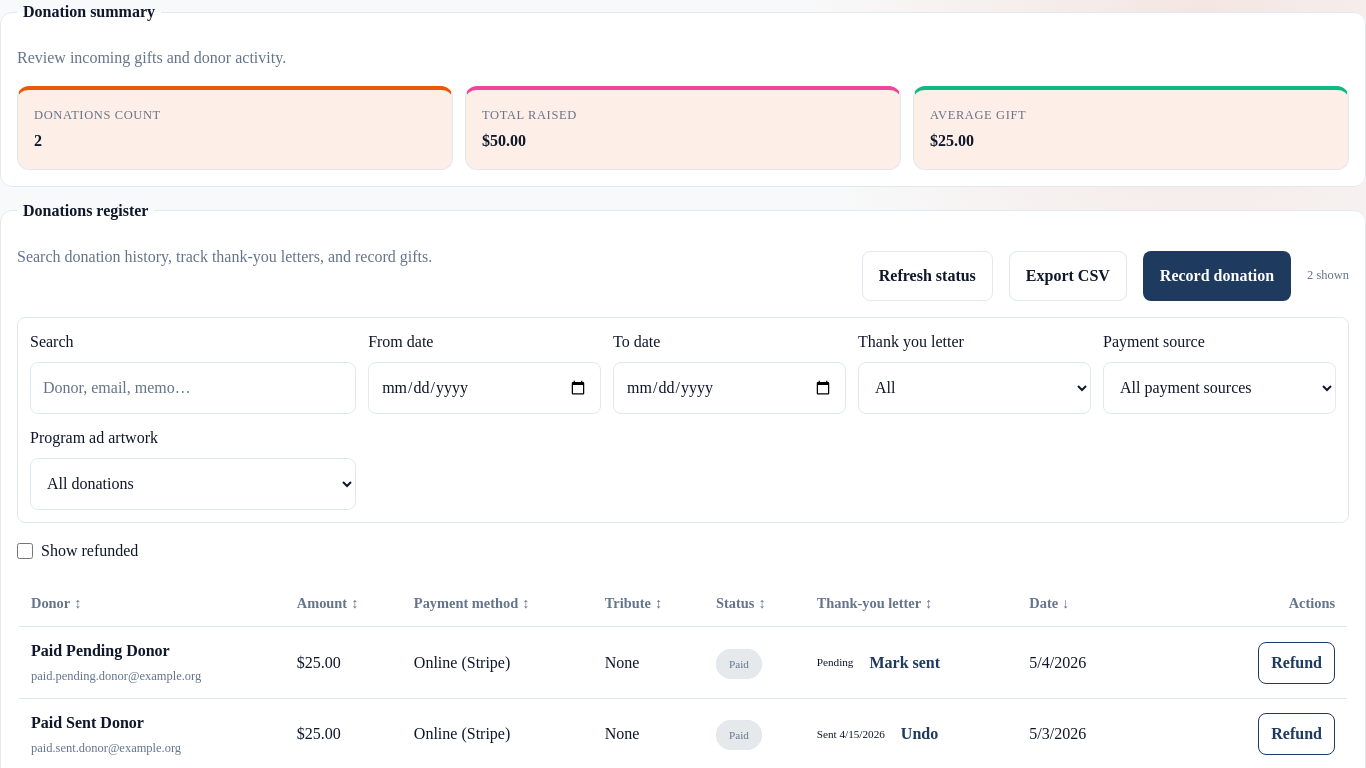
DonationHistoryTab DataTable › keeps refunded thank-you state non-actionable across filters and mobile cards
Click the checkbox labelled "Show refunded" at {"x": 25, "y": 551}, box x1=17 y1=543 x2=33 y2=559
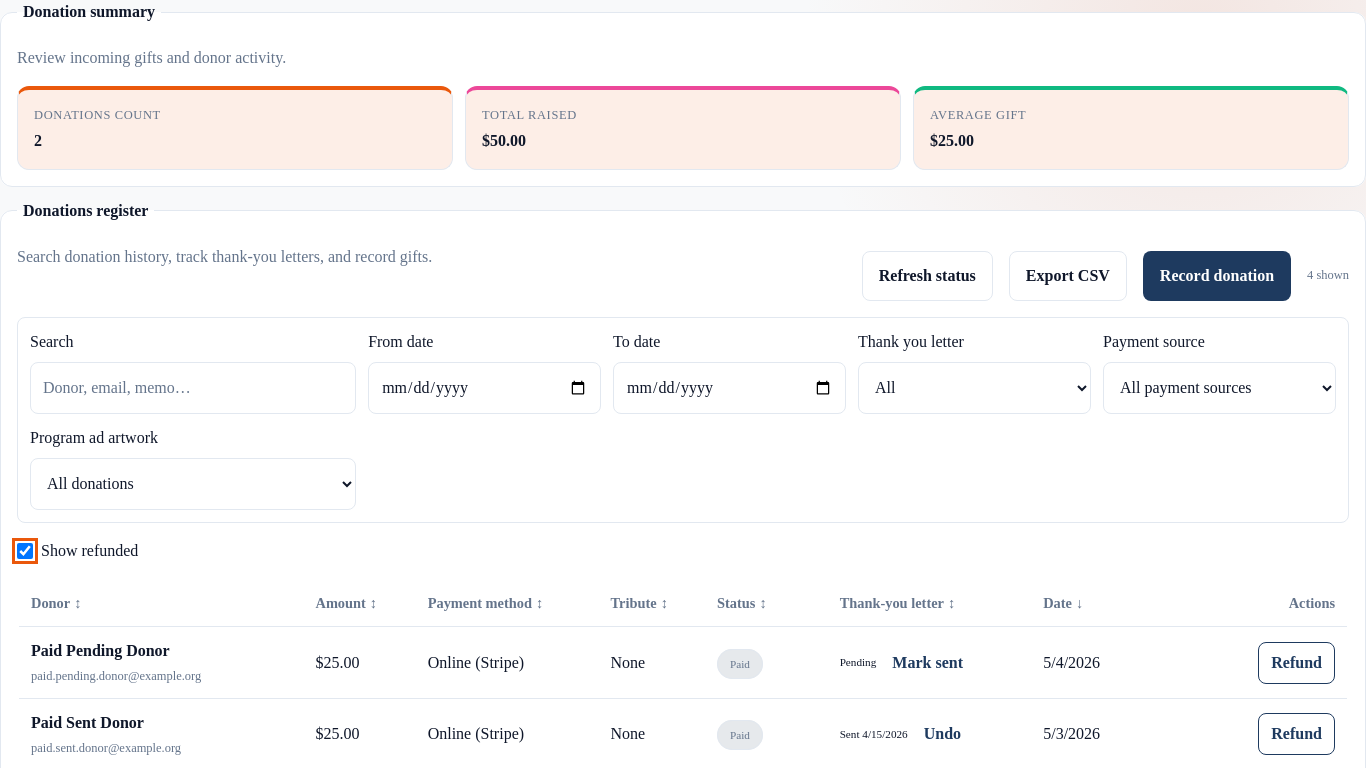
Expected: the text "Pending" is shown, x1=840 y1=654 x2=876 y2=671
Expected: the button "Mark sent" is shown, x1=884 y1=645 x2=971 y2=681
Select "Thank you sent" in the dropdown labelled "Thank you letter" at {"x": 975, "y": 388}, box x1=858 y1=362 x2=1091 y2=414
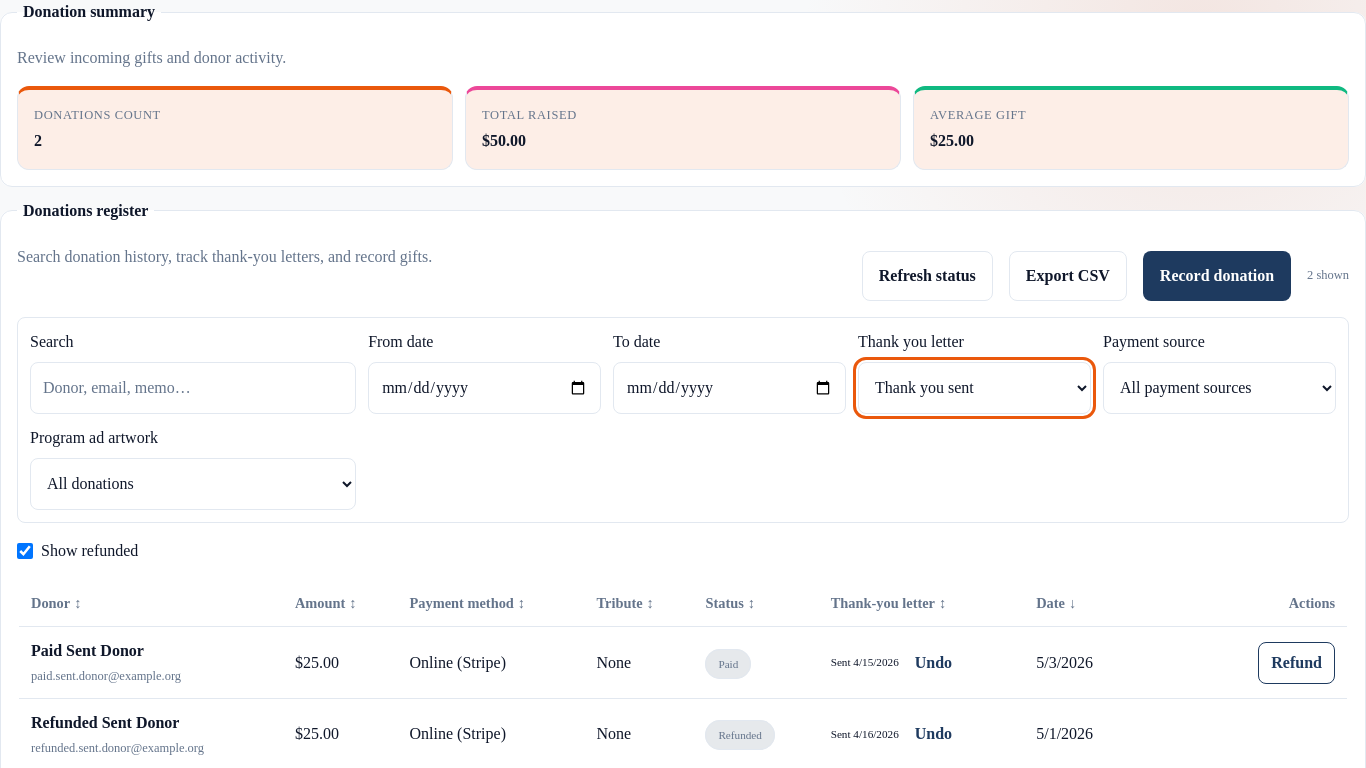
Now the text "2 shown" is shown, box x1=1307 y1=266 x2=1349 y2=285
Select "Thank you pending" in the dropdown labelled "Thank you letter" at {"x": 975, "y": 388}, box x1=858 y1=362 x2=1091 y2=414
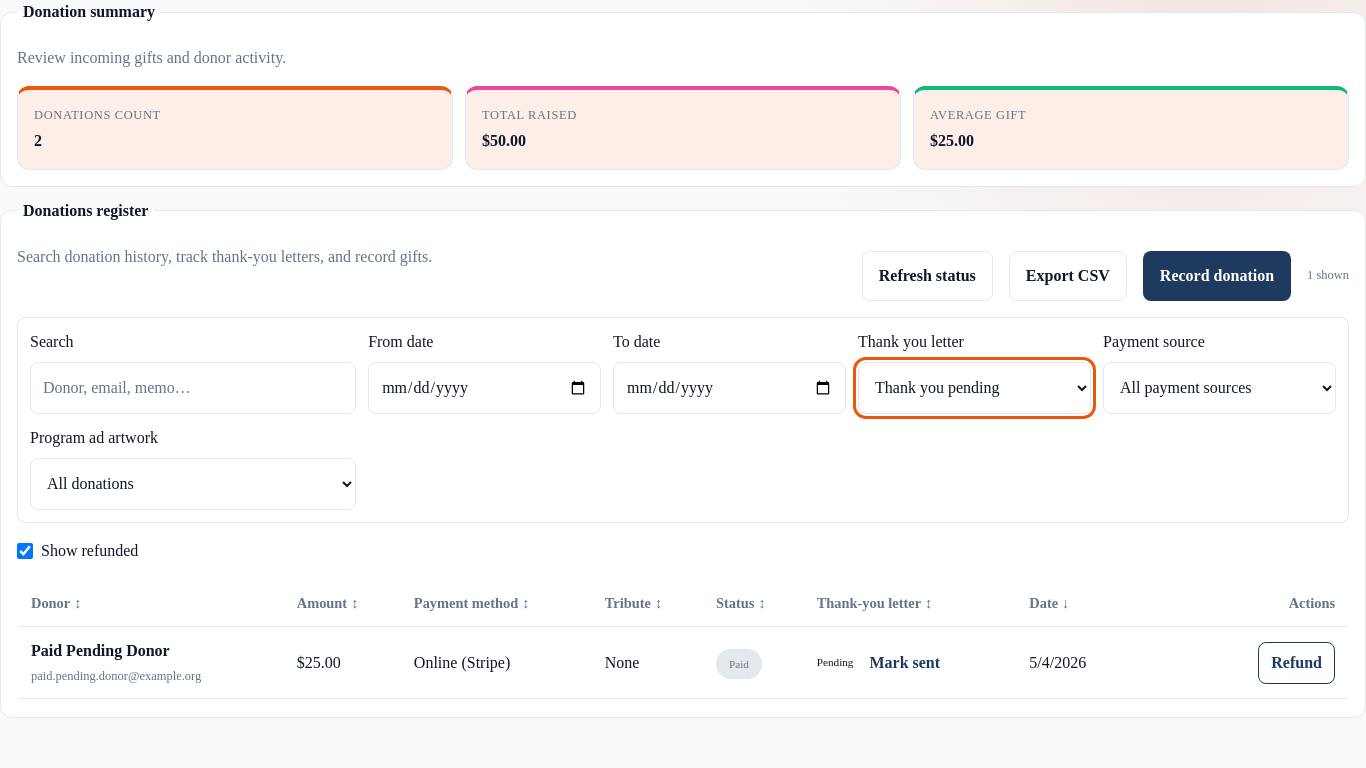
Now the text "1 shown" is shown, box x1=1307 y1=266 x2=1349 y2=285
Select "All" in the dropdown labelled "Thank you letter" at {"x": 975, "y": 388}, box x1=858 y1=362 x2=1091 y2=414
(page scrolled)
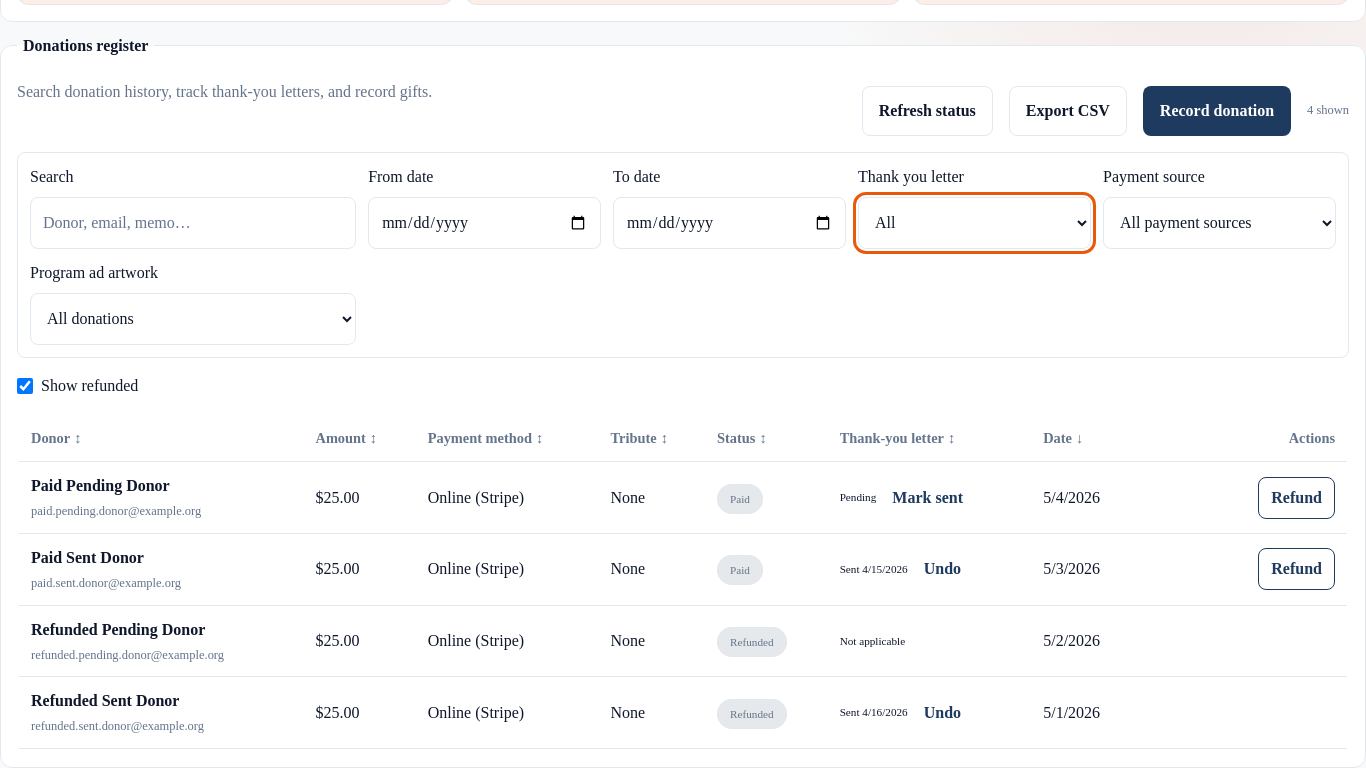
Click the button "Undo" next to "4/16/2026" at {"x": 942, "y": 713}, box x1=916 y1=695 x2=969 y2=731
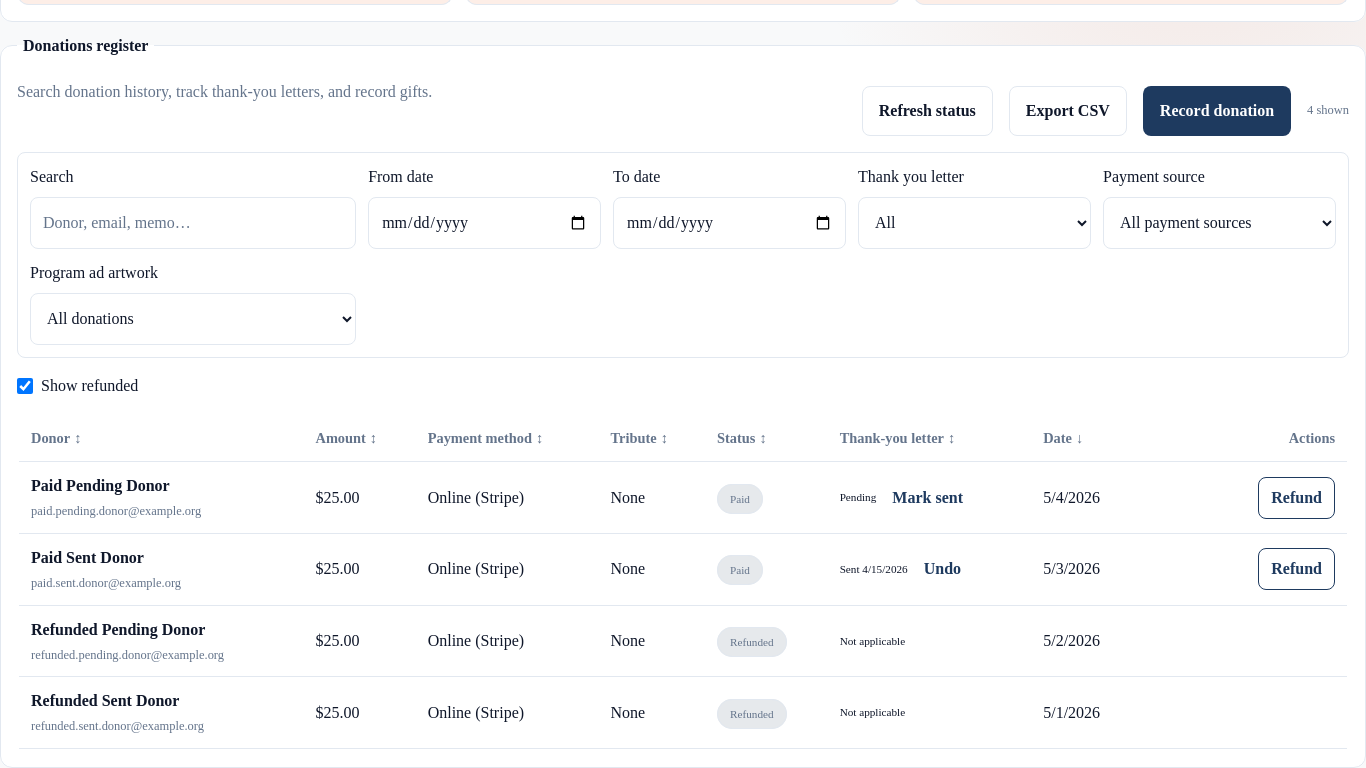
Now the text "Not applicable" in the row of "Refunded Sent Donor" is shown, box x1=840 y1=706 x2=905 y2=718
